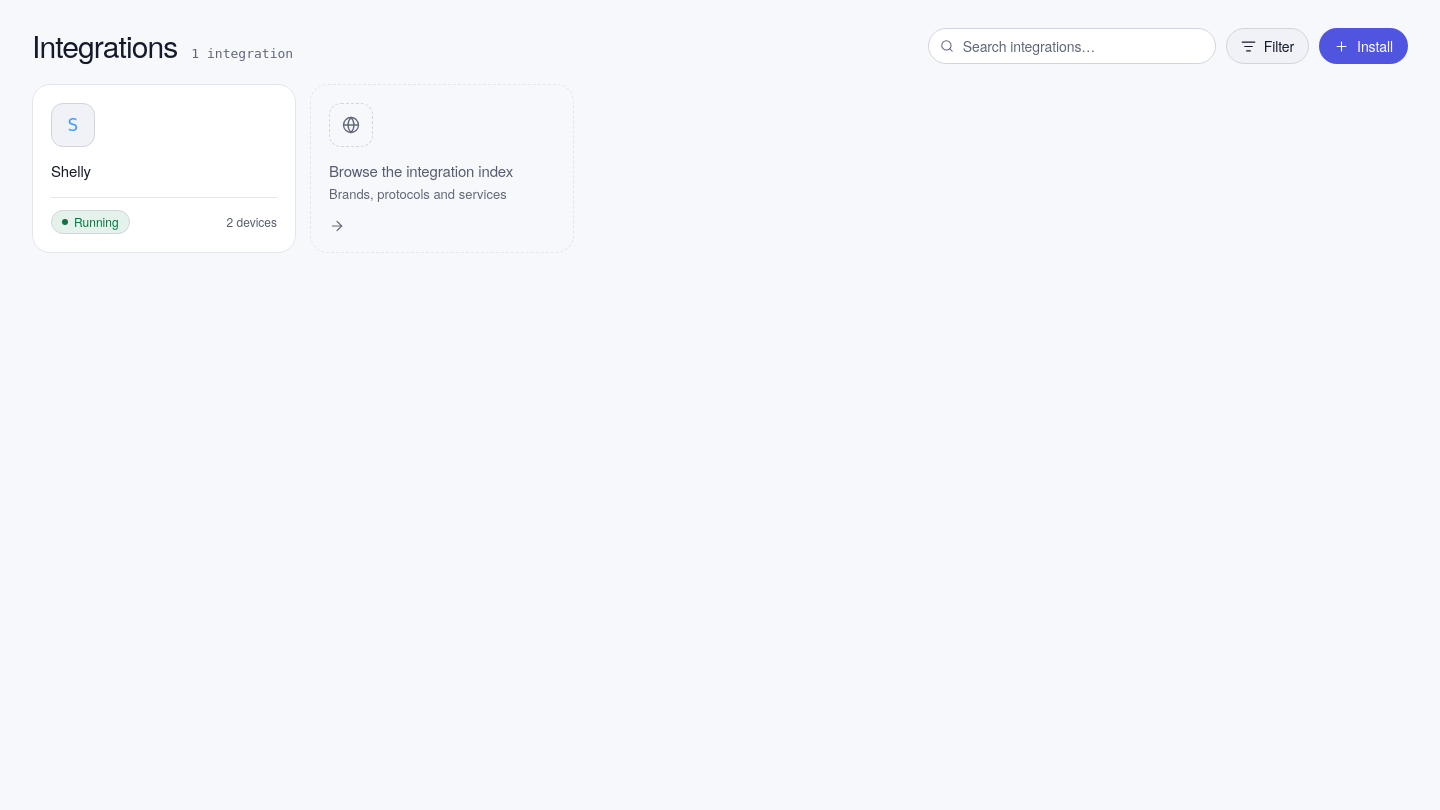
Test: the integrations grid › offers Install to whoever may install integrations, and opens the Hub’s search
Expected: the link "S Shelly Running 2 devices" is shown, [32,84,296,253]
Click the button "Install". click: (1364, 46)
box: [1319,28,1408,64]
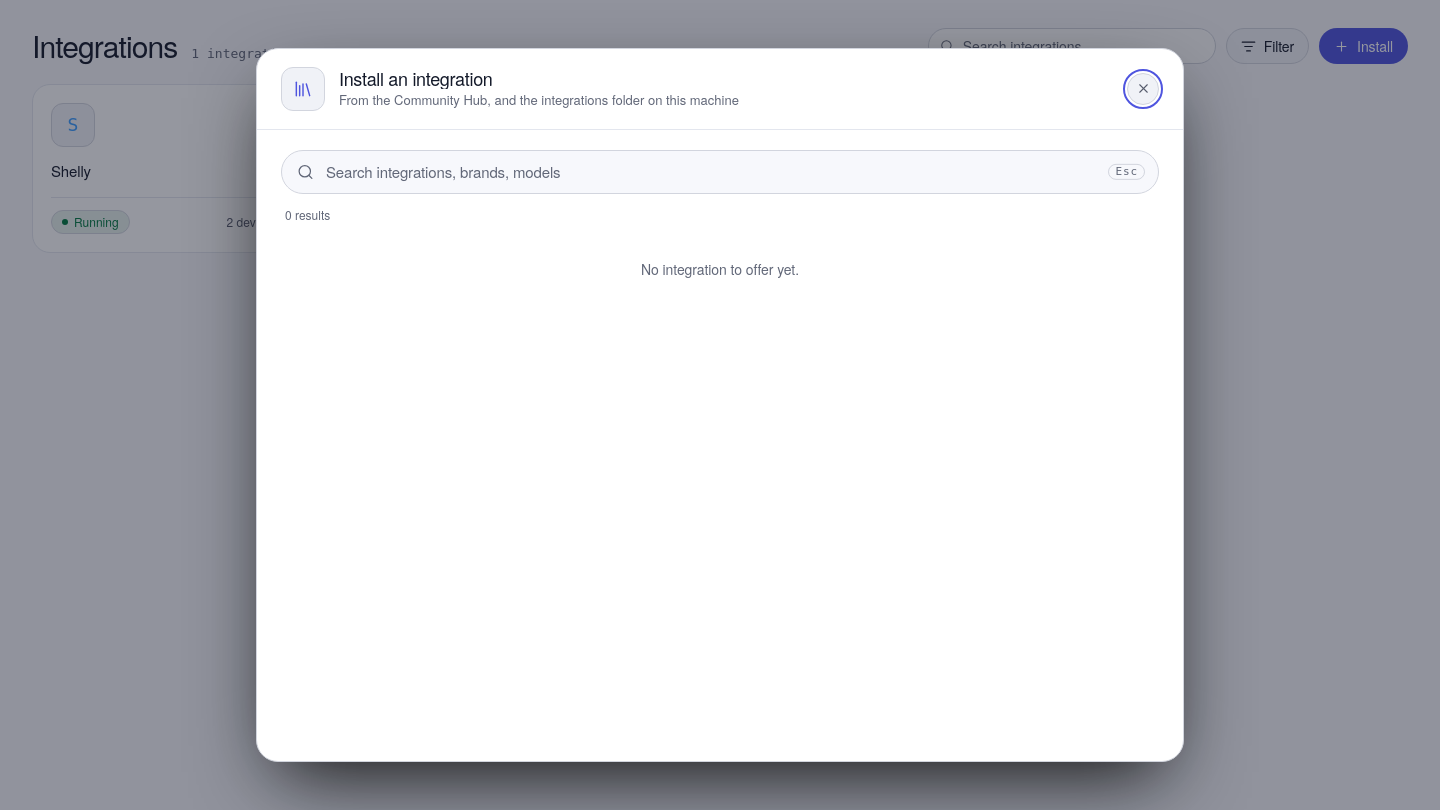
Expected: the heading "Install an integration" is shown, [339,65,492,91]
